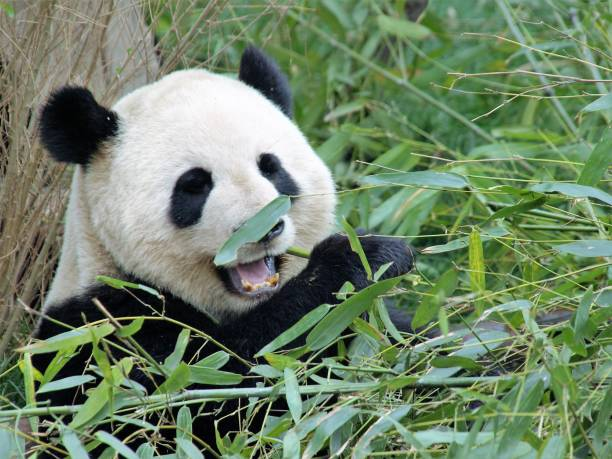panda: (49, 50, 373, 337)
